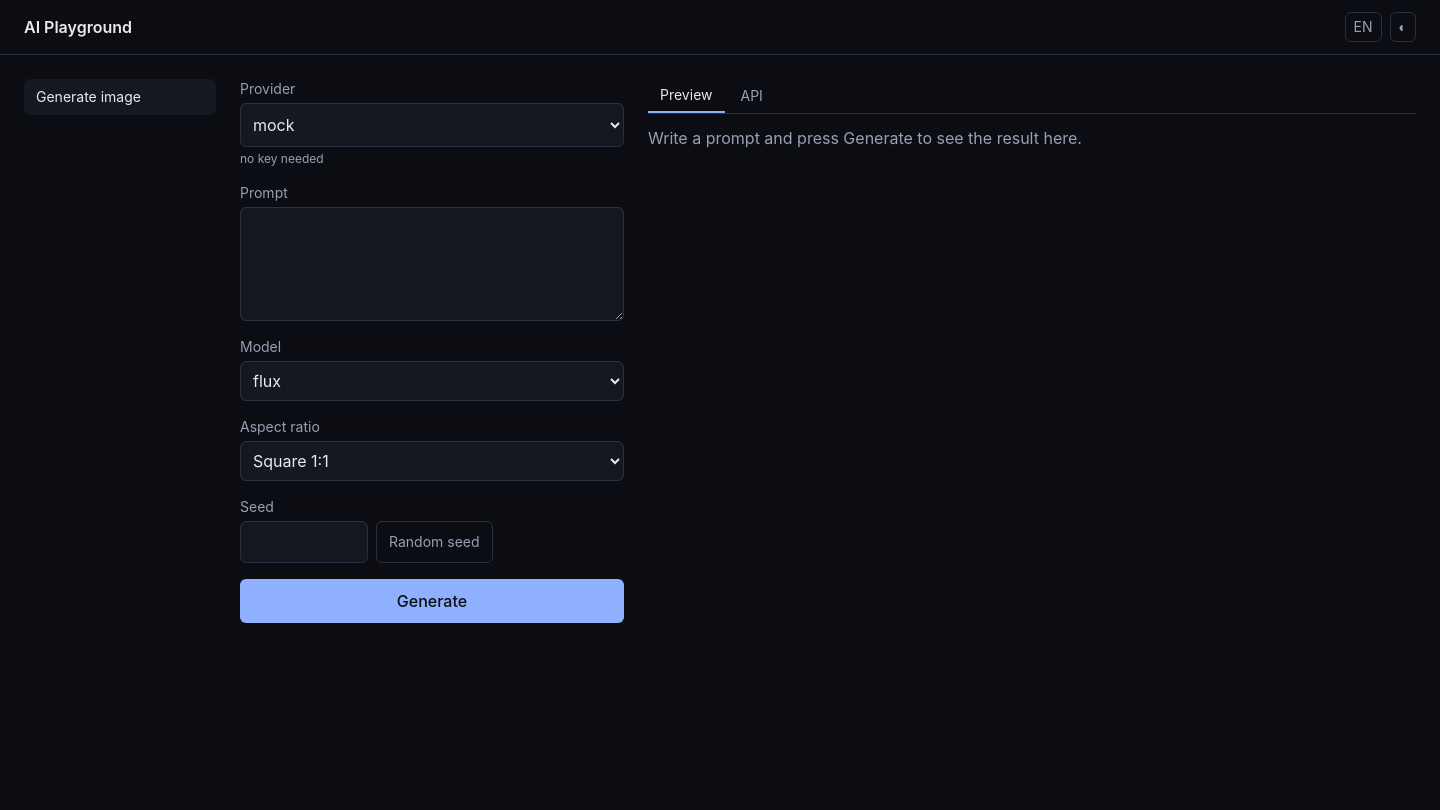
Scenario: App › flujo completo: prompt → Generate → imagen mock + traza en tab API
In the text box labelled "Prompt": (432, 264) [240, 207, 624, 321], type "a red fox"
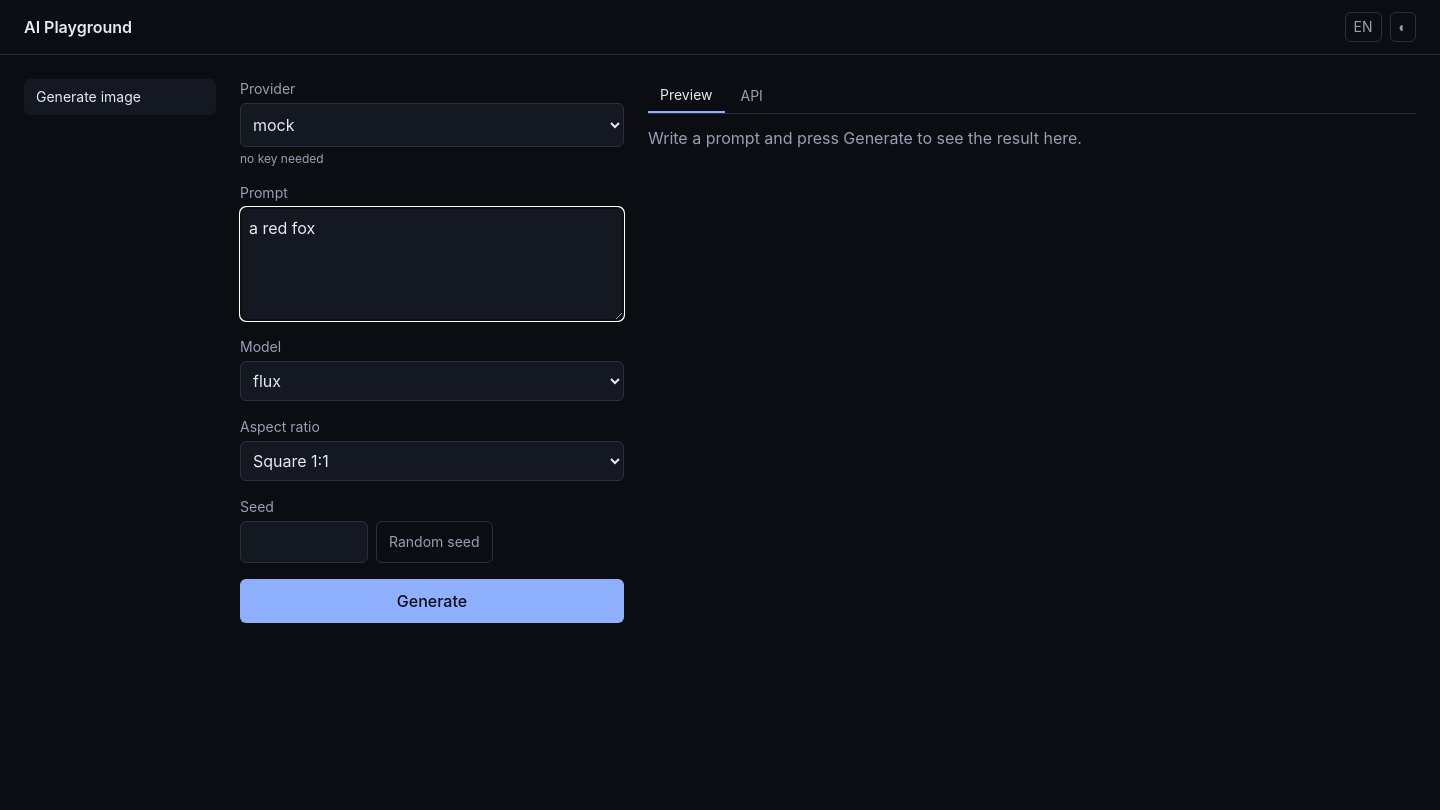
Click the button "Generate": (432, 601) [240, 579, 624, 623]
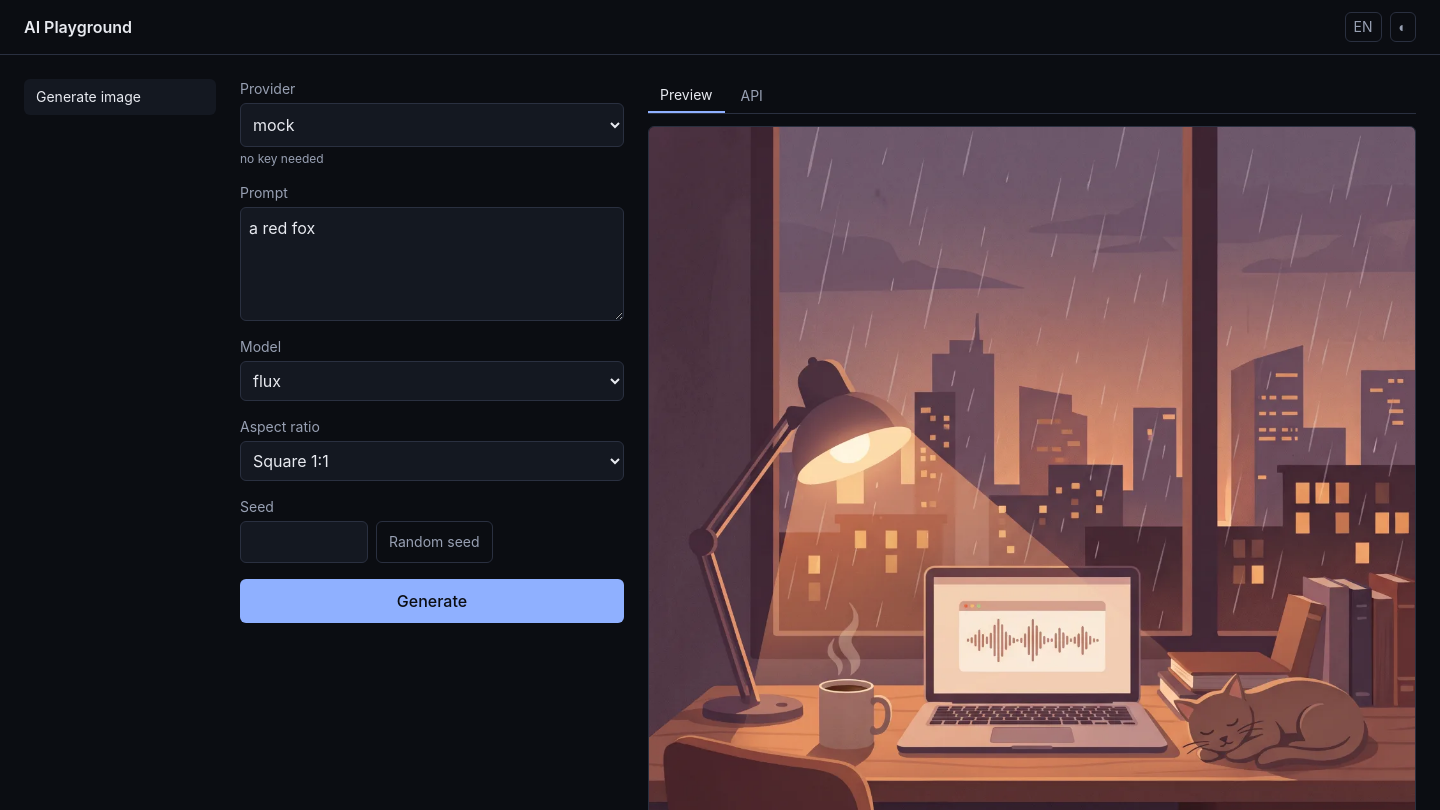
Click the tab "API": (752, 96) [728, 79, 775, 113]
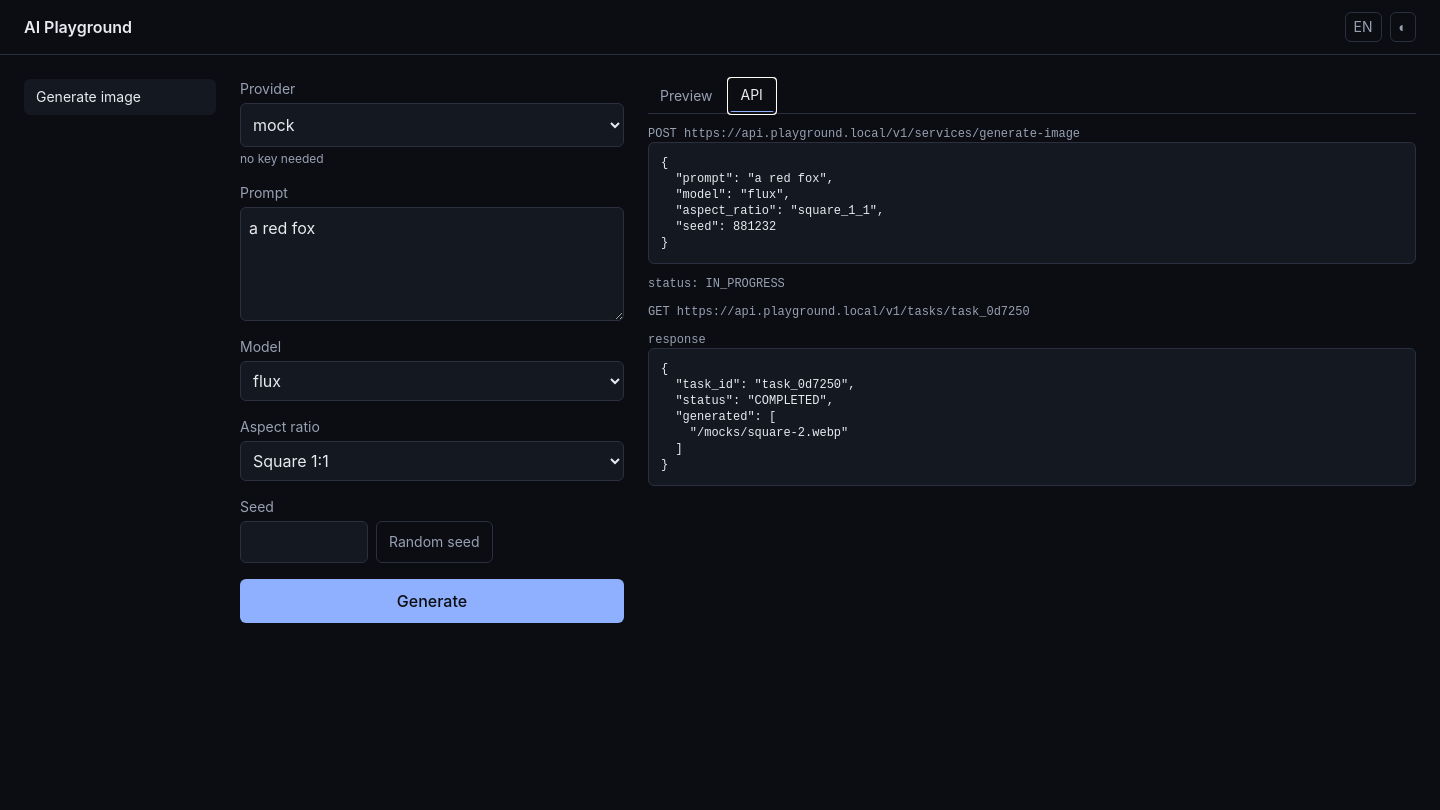
Expected: the text "COMPLETED" is shown, [661, 362, 855, 472]
